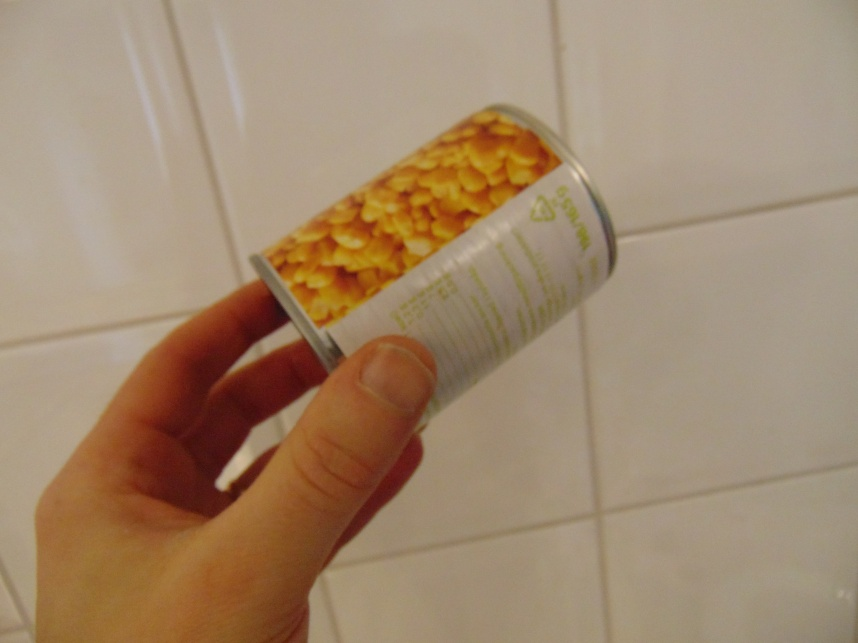metal_can: (248, 103, 621, 435)
